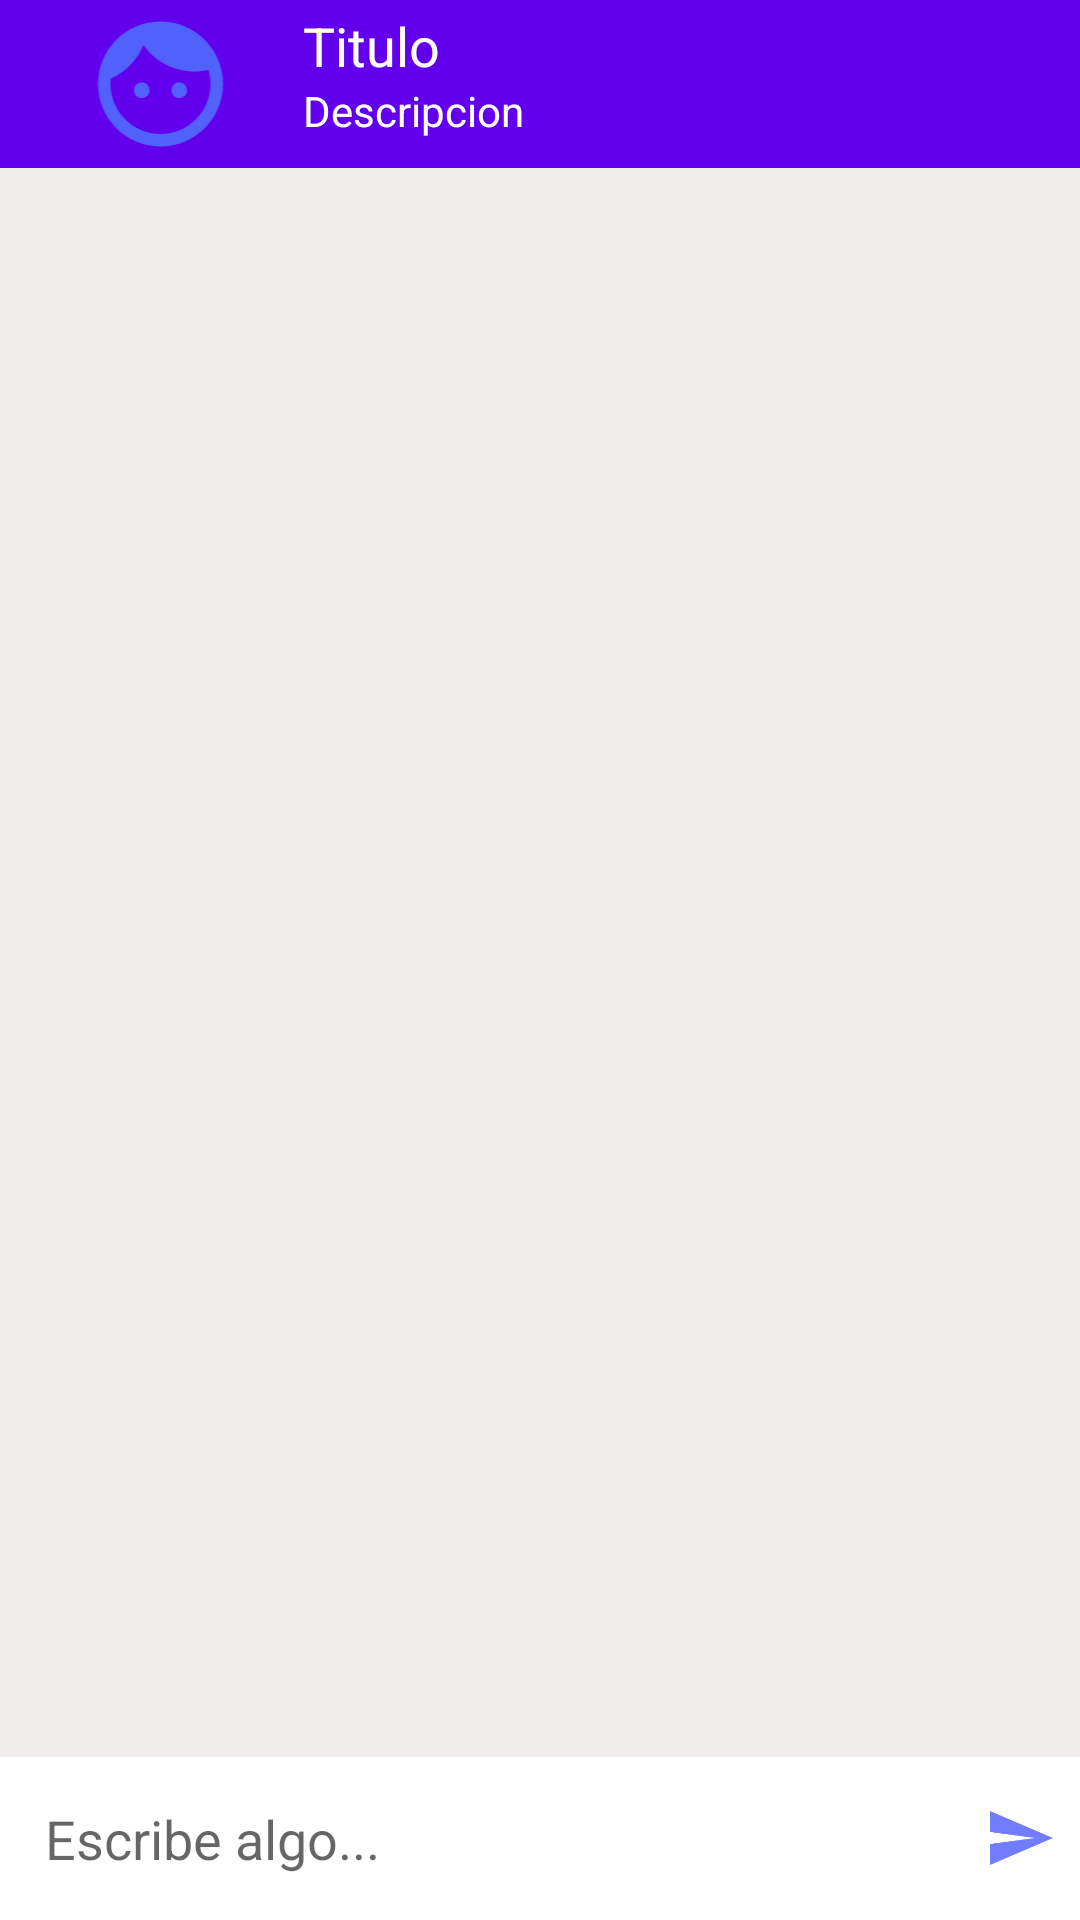

Where icons sit on this 1080px×1920px app screen, as (x1, y1, x2, y2):
defualt: (97, 21, 224, 147)
send: (990, 1811, 1053, 1865)
